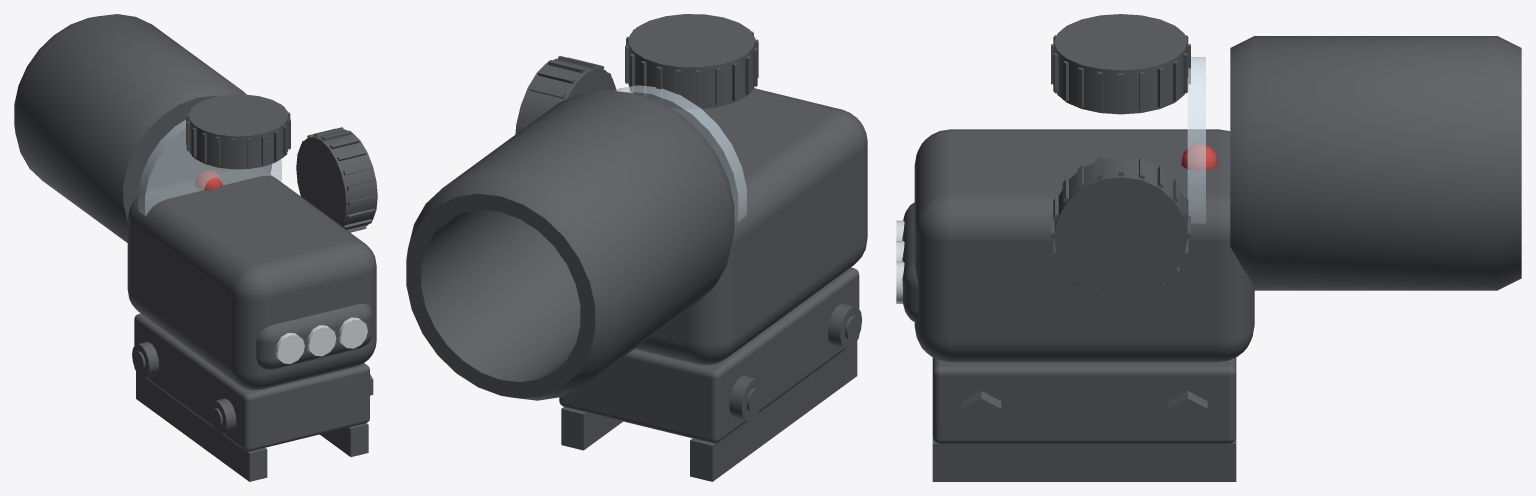
File: arctic-station-fps-kit-red-dot-sight-6267c323__28509.glb
3 views of the same model, side by side, from view 1: azimuth 30°, elevation 25°; view 2: azimuth 150°, elevation 25°; view 3: azimuth 270°, elevation 25° (orthographic). The views are drawn at different scales.
Parts seen in each view (by area): view 1: red-dot-sight; view 2: red-dot-sight; view 3: red-dot-sight.
Boxes of the visible parts, x1,y1,x2,y2 form: red-dot-sight: (14,14,377,481); red-dot-sight: (406,14,867,481); red-dot-sight: (896,14,1521,481).
Size of the model in its own units: 0.0498 by 0.0729 by 0.103.
